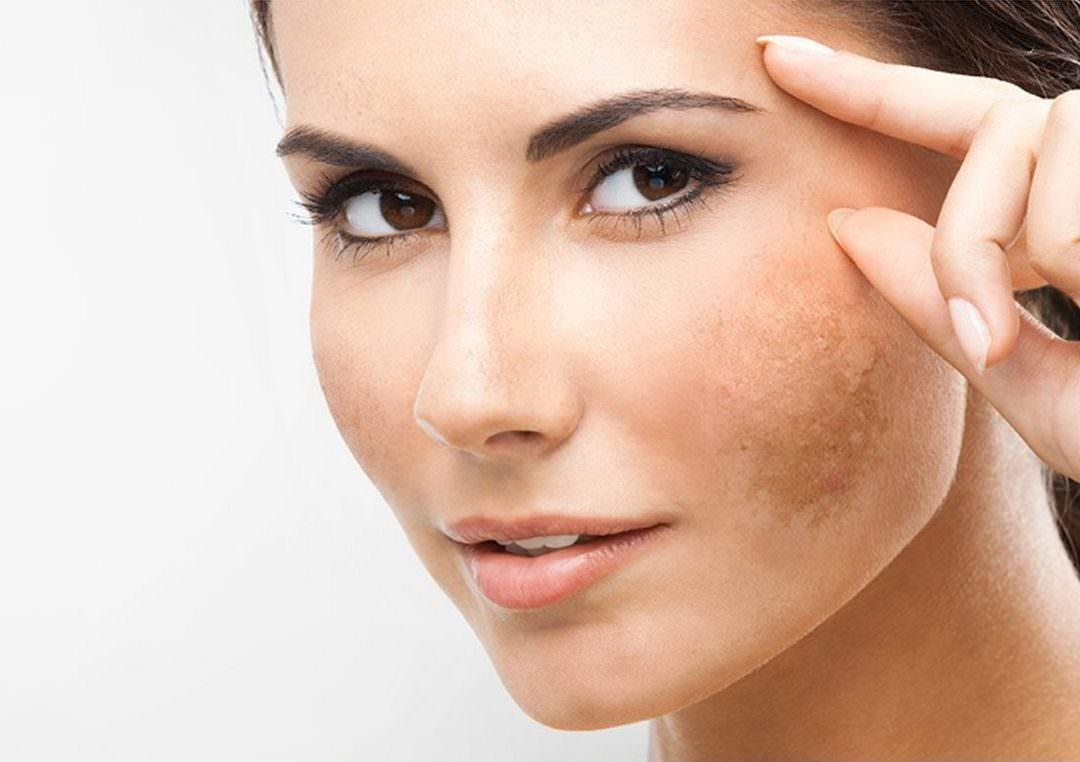Dark-Spots: (695, 295, 909, 543)
